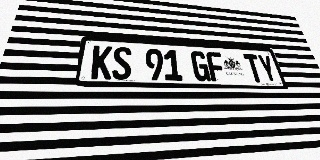1: (163, 49, 183, 81)
9: (145, 48, 165, 81)
F: (206, 52, 227, 82)
G: (190, 51, 211, 81)
K: (91, 45, 112, 80)
S: (112, 46, 131, 80)
T: (243, 54, 265, 82)
Y: (256, 55, 279, 83)
